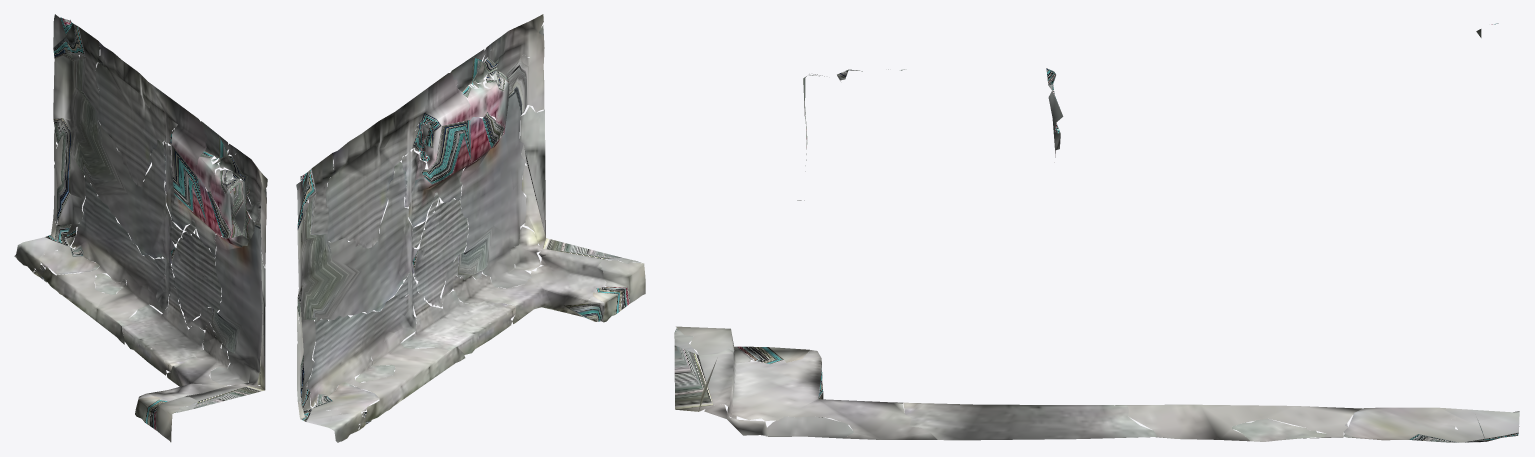
Rendered from x_front_lo.glb.
3 renders of one model, left to right at view 1: azimuth 30°, elevation 25°; view 2: azimuth 150°, elevation 25°; view 3: azimuth 270°, elevation 25°, orthographic. The views are drawn at different scales.
Visible parts, largest first — view 1: Object_6, Object_5, Object_4, Object_7; view 2: Object_5, Object_4, Object_6, Object_7; view 3: Object_4, Object_5, Object_7, Object_6.
Boxes of the visible parts, <box> form: Object_6: <box>14,14,236,349</box>; Object_5: <box>34,121,267,442</box>; Object_4: <box>44,20,266,413</box>; Object_7: <box>117,219,260,385</box>; Object_5: <box>300,14,645,427</box>; Object_4: <box>300,25,641,414</box>; Object_6: <box>296,43,491,442</box>; Object_7: <box>394,192,541,354</box>; Object_4: <box>674,29,1481,439</box>; Object_5: <box>676,74,1362,441</box>; Object_7: <box>704,402,1156,440</box>; Object_6: <box>1232,23,1519,442</box>.
Bounding box in the file's own units: 1.59 × 3.22 × 5.43.
1 material, 1 textured.
